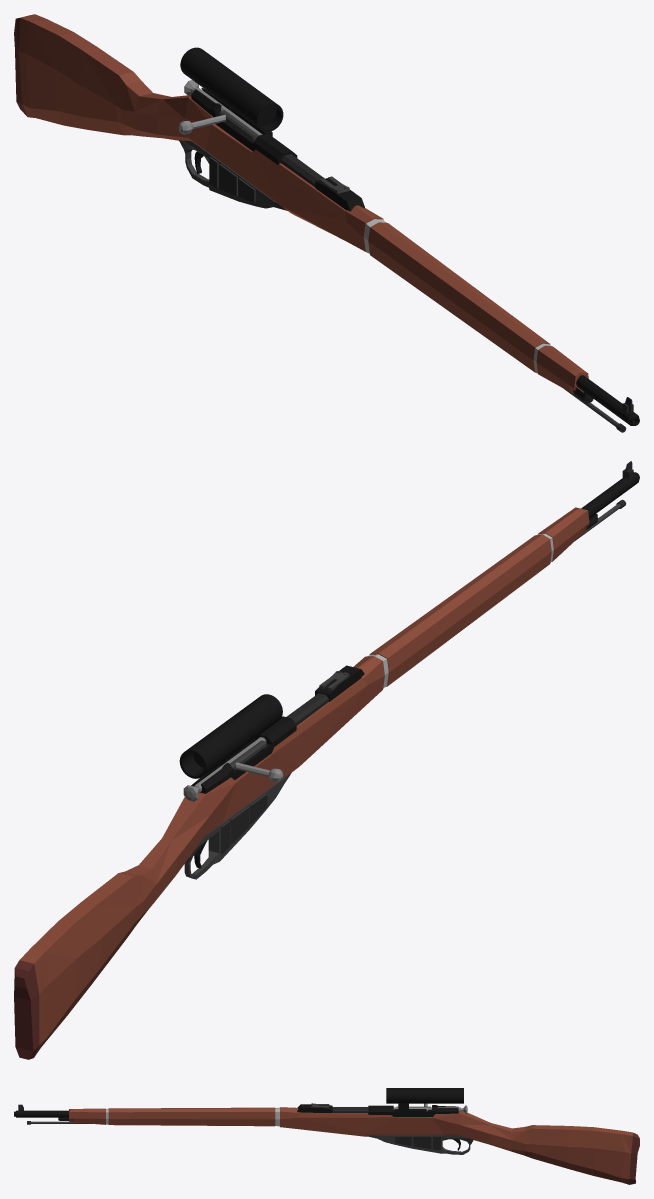
Rendered from Mosin_scope.fbx.
3 renders of one model, top to bottom at view 1: azimuth 30°, elevation 25°; view 2: azimuth 150°, elevation 25°; view 3: azimuth 270°, elevation 25°, orthographic. The views are drawn at different scales.
Visible parts, largest first — view 1: Wood, Cylinder, TriggerGuard, Chamber, Barrel, FrontSights; view 2: Wood, Cylinder, TriggerGuard, Chamber, Barrel; view 3: Wood, Cylinder, TriggerGuard, Chamber, Barrel, Cube, FrontSights, Thing1, Ramrod.
Boxes of the visible parts, left/top/right/bottom form: Wood: left=14, top=14, right=588, bottom=393; Cylinder: left=180, top=47, right=283, bottom=131; TriggerGuard: left=179, top=140, right=287, bottom=210; Chamber: left=191, top=88, right=297, bottom=165; Barrel: left=576, top=375, right=639, bottom=425; FrontSights: left=315, top=178, right=364, bottom=211; Wood: left=14, top=507, right=589, bottom=1059; Cylinder: left=179, top=694, right=282, bottom=778; TriggerGuard: left=184, top=773, right=291, bottom=879; Chamber: left=191, top=716, right=296, bottom=793; Barrel: left=581, top=472, right=639, bottom=518; Wood: left=69, top=1107, right=639, bottom=1184; Cylinder: left=386, top=1088, right=463, bottom=1103; TriggerGuard: left=366, top=1135, right=473, bottom=1154; Chamber: left=368, top=1105, right=458, bottom=1116; Barrel: left=14, top=1110, right=69, bottom=1117; Cube: left=394, top=1103, right=426, bottom=1116; FrontSights: left=297, top=1104, right=332, bottom=1112; Thing1: left=332, top=1107, right=368, bottom=1112; Ramrod: left=27, top=1121, right=92, bottom=1124.
Bounding box in the file's own units: 28.9 × 79.29 × 472.
Materials: 1 (1 with a texture image).
